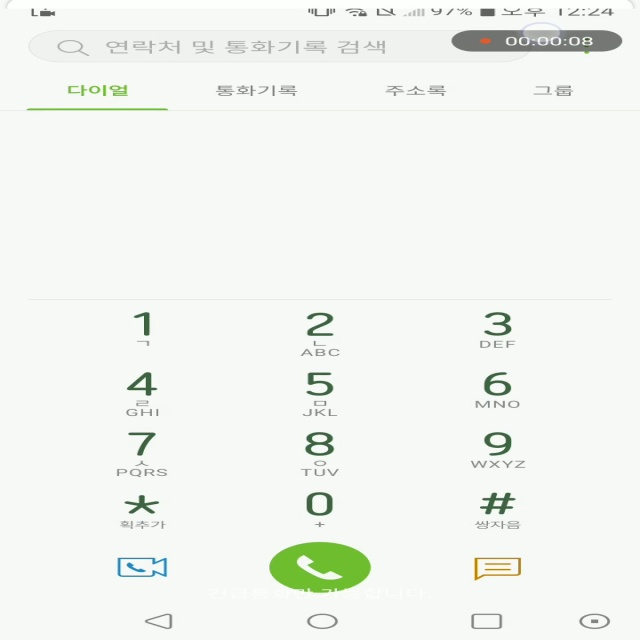Cursor: (520, 21, 564, 44)
